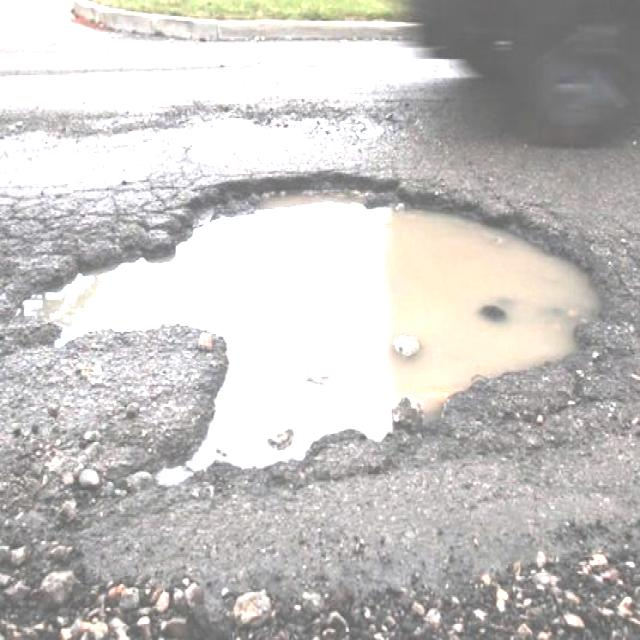Pothole: (0, 171, 605, 500)
